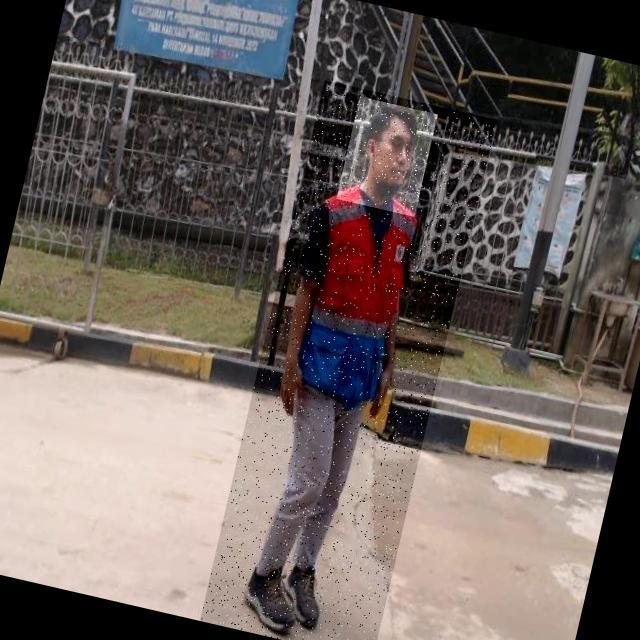Human: (199, 79, 496, 640), (336, 97, 438, 218)
Safety Boot: (234, 556, 309, 640), (275, 556, 332, 637)
Safety Vest: (275, 167, 430, 427)
